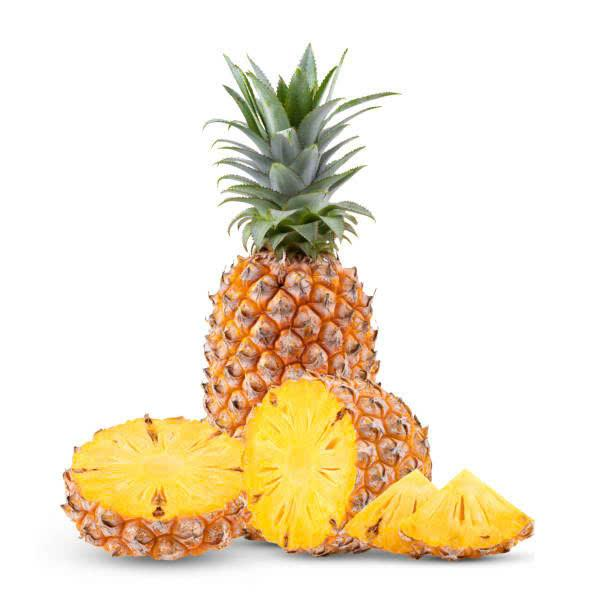pineapple: (179, 63, 437, 369), (37, 394, 265, 538), (251, 379, 409, 545), (370, 447, 526, 569)
